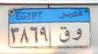3: (11, 27, 19, 44)
6: (30, 26, 38, 44)
8: (20, 27, 28, 43)
9: (39, 27, 48, 42)
qaaf: (58, 26, 70, 43)
waw: (71, 27, 83, 41)
